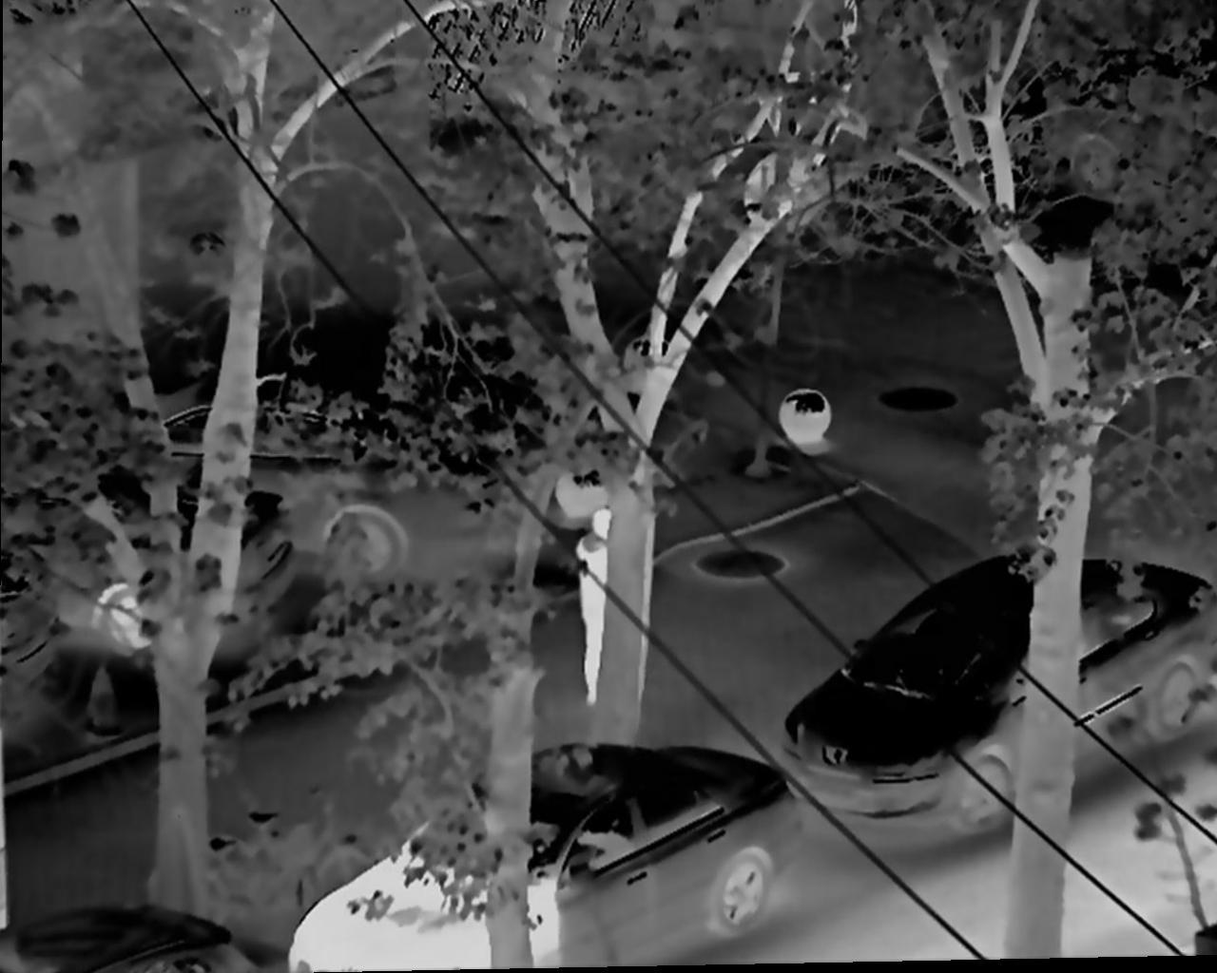person: (575, 512, 644, 702)
